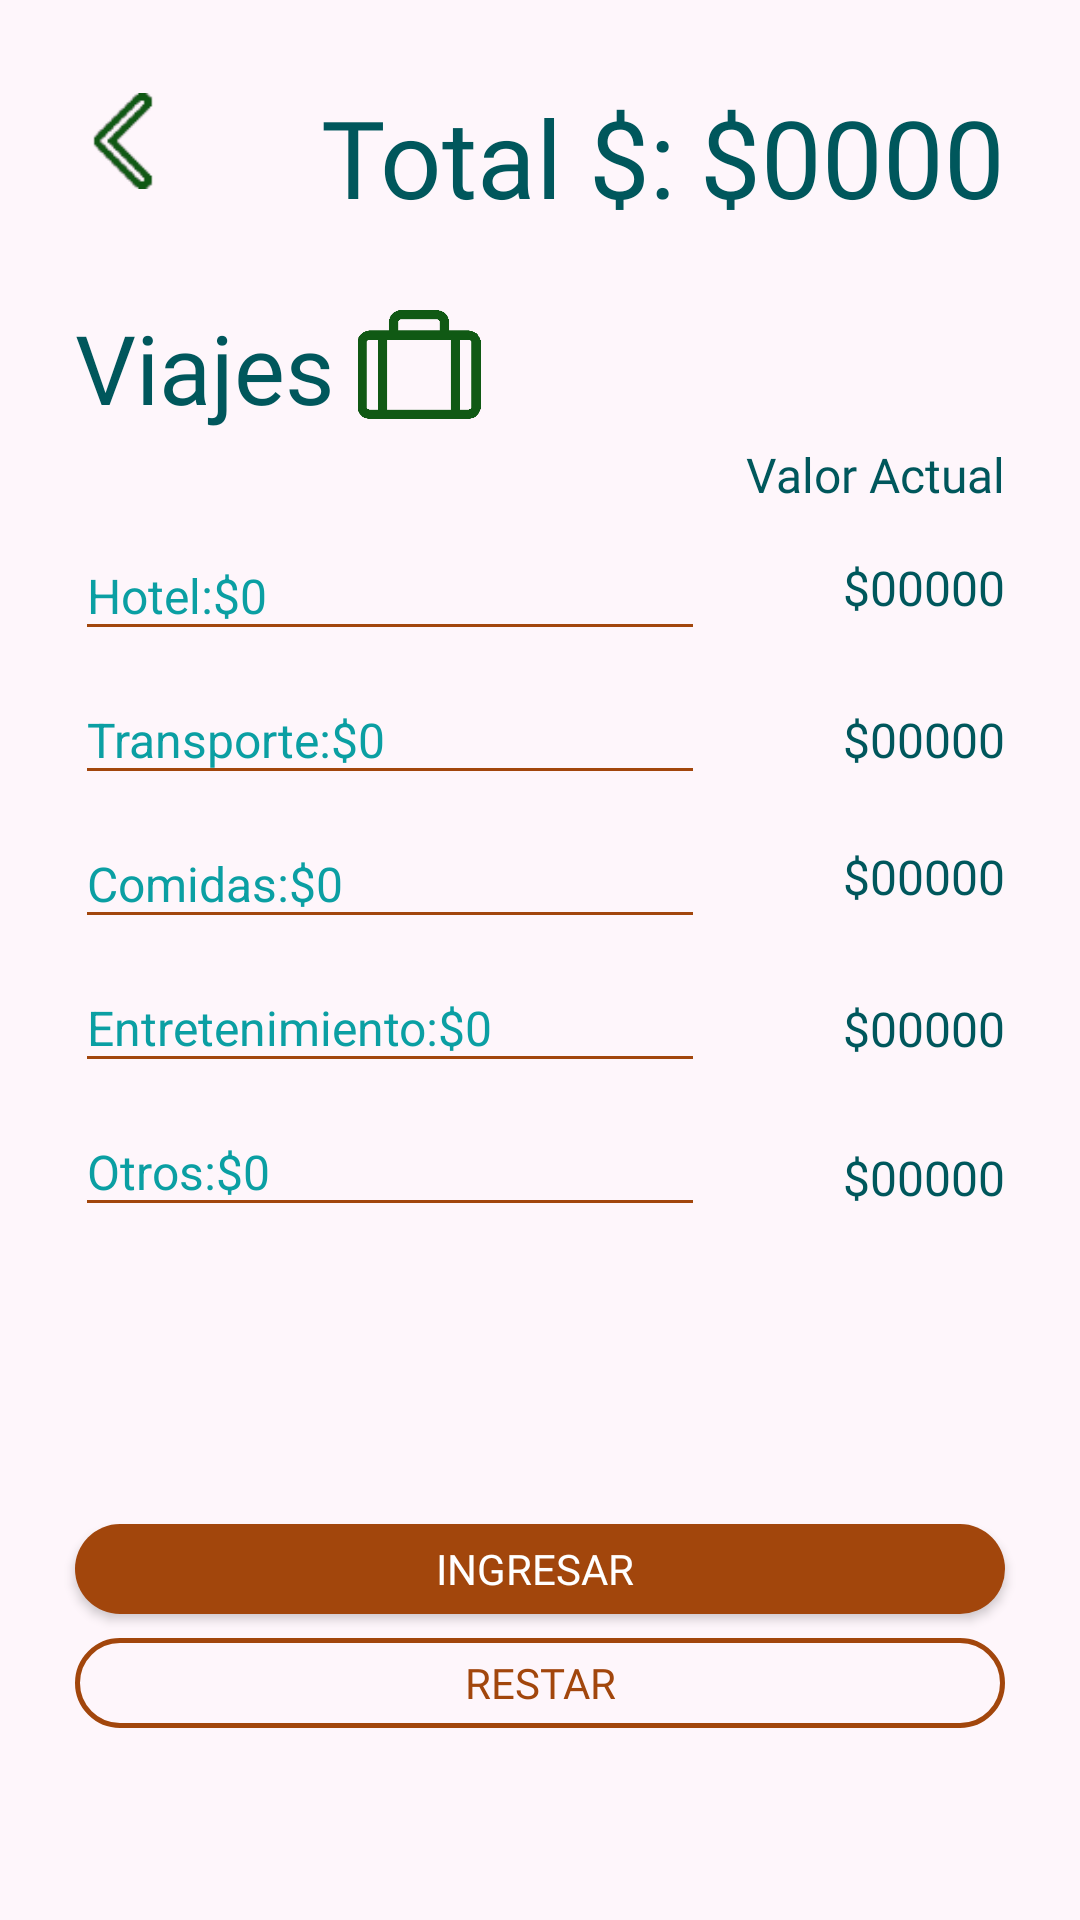

Where icons sit on this 1080 x 1920 app screen, as [left=x1, top=y1, right=x2, bottom=y2]:
flecha: [left=93, top=93, right=153, bottom=189]
viajefinalpng: [left=358, top=310, right=481, bottom=419]
